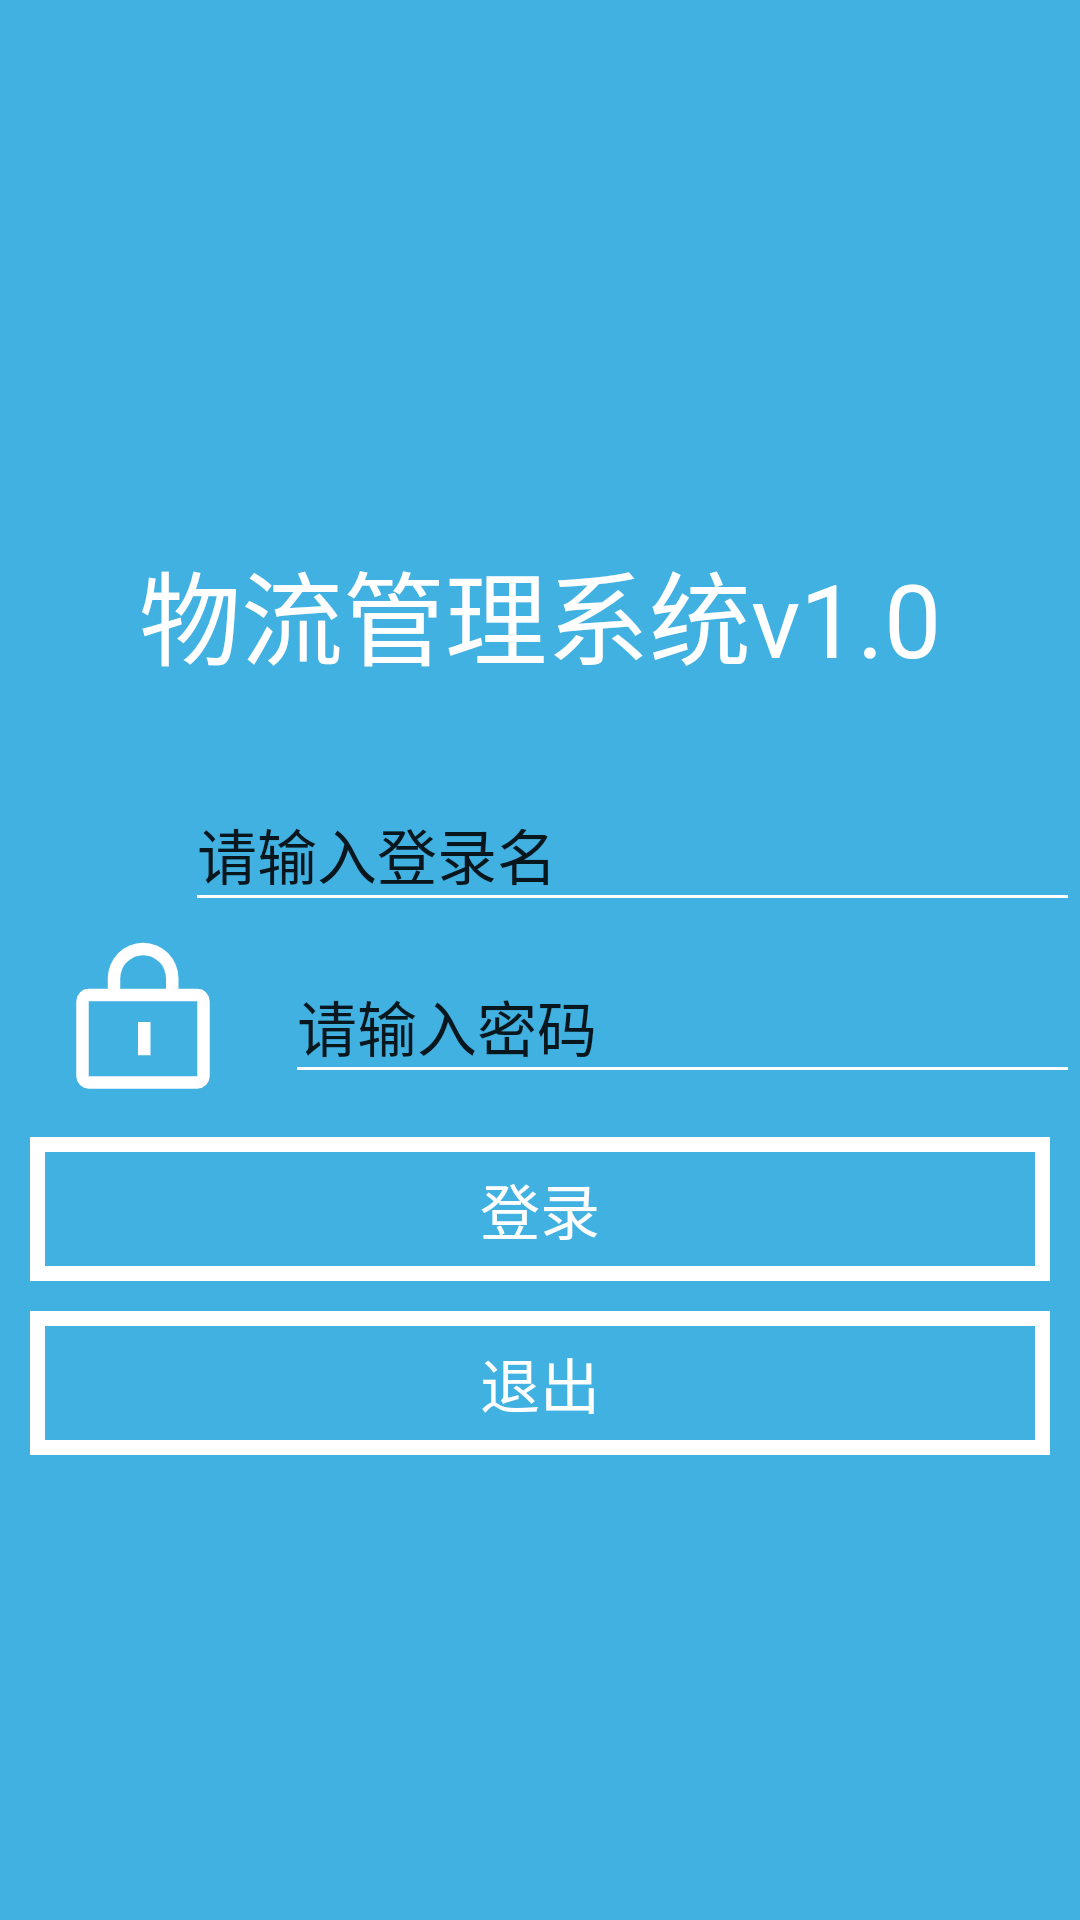

Named icons in this screenshot (1080x1920) and their bounding boxes, (x1, y1, x2, y2):
密码图标: (76, 942, 210, 1089)
